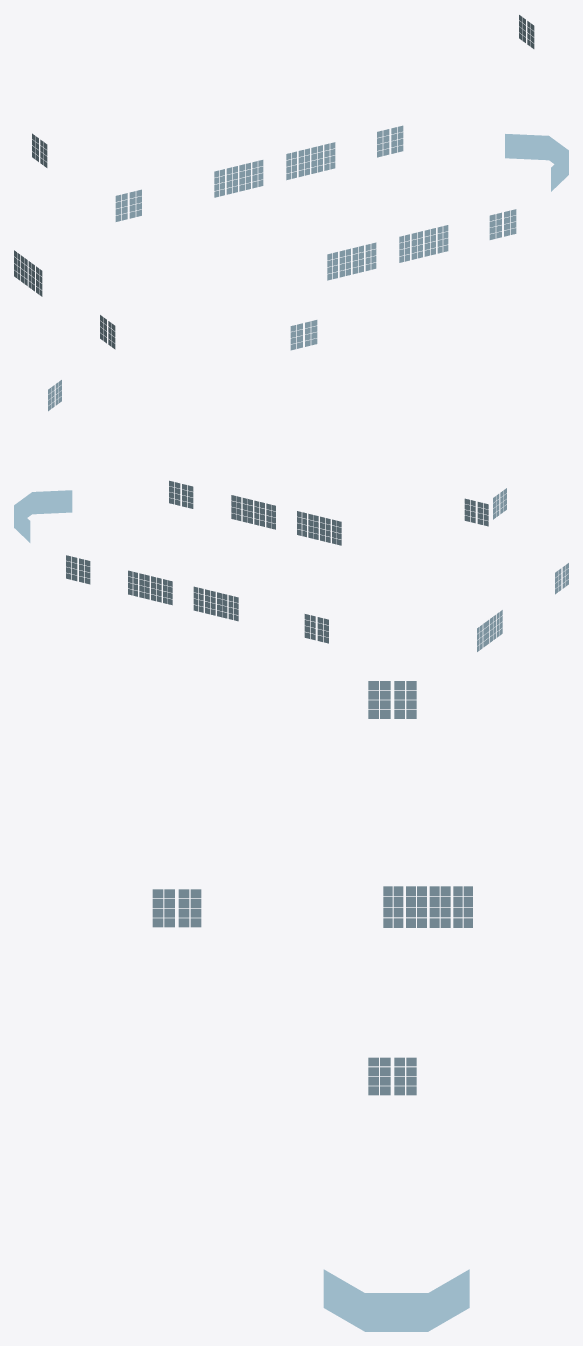
File: FairyTale74.gltf
The picture shows the model from 3 angles, top to bottom: view 1: azimuth 30°, elevation 25°; view 2: azimuth 150°, elevation 25°; view 3: azimuth 270°, elevation 25°; orthographic projection. The views are drawn at different scales.
Visible parts, largest first — view 1: HouseSM03_Glass; view 2: HouseSM03_Glass; view 3: HouseSM03_Glass.
Part boxes in pixels (x1,y1,x2,y2): HouseSM03_Glass: (14, 15, 568, 350); HouseSM03_Glass: (14, 380, 568, 651); HouseSM03_Glass: (152, 681, 472, 1331).
Bounding box in the file's own units: 16.59 × 4.77 × 9.67.
